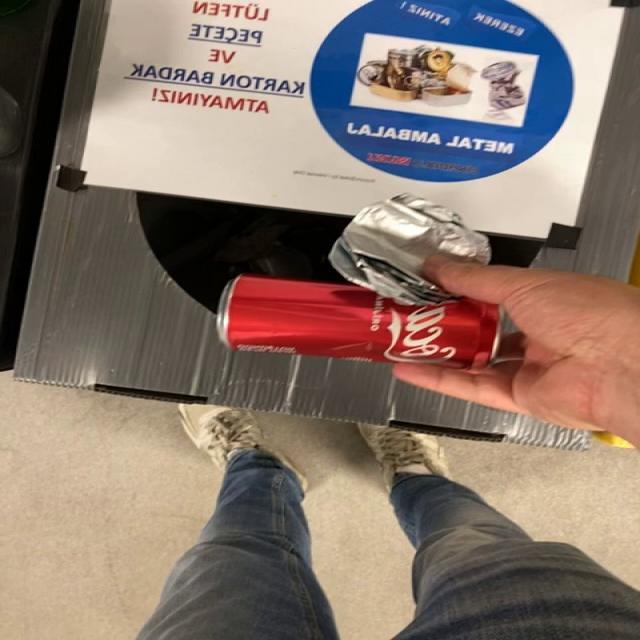bin: (15, 0, 639, 450)
metal: (216, 274, 501, 368)
